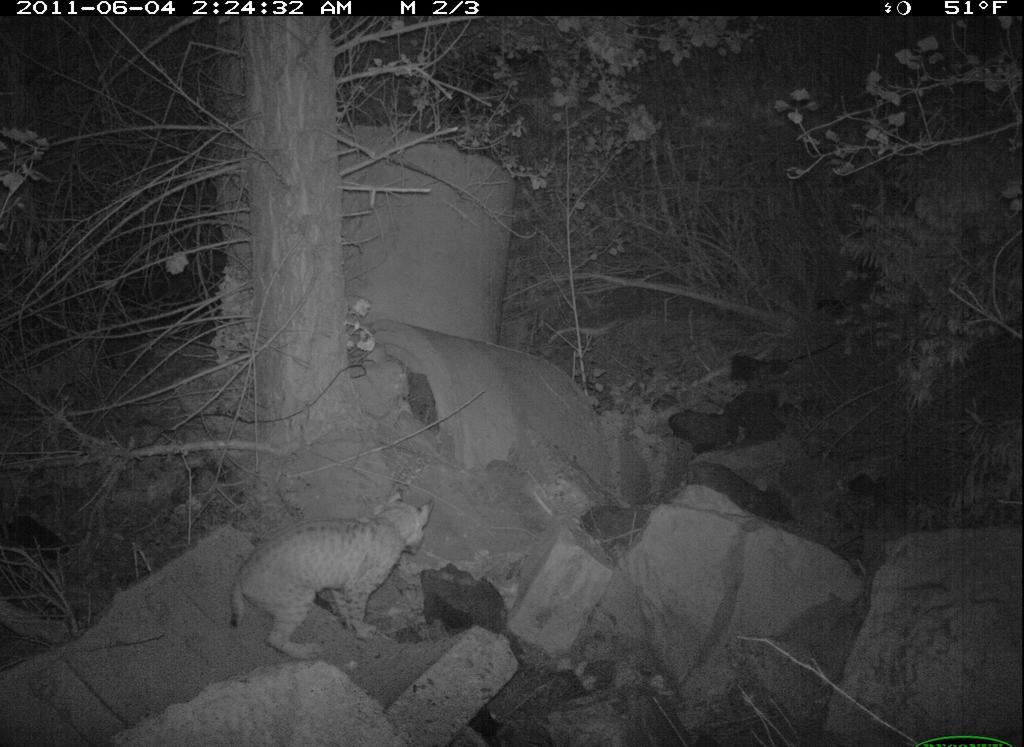bobcat: (225, 487, 440, 666)
